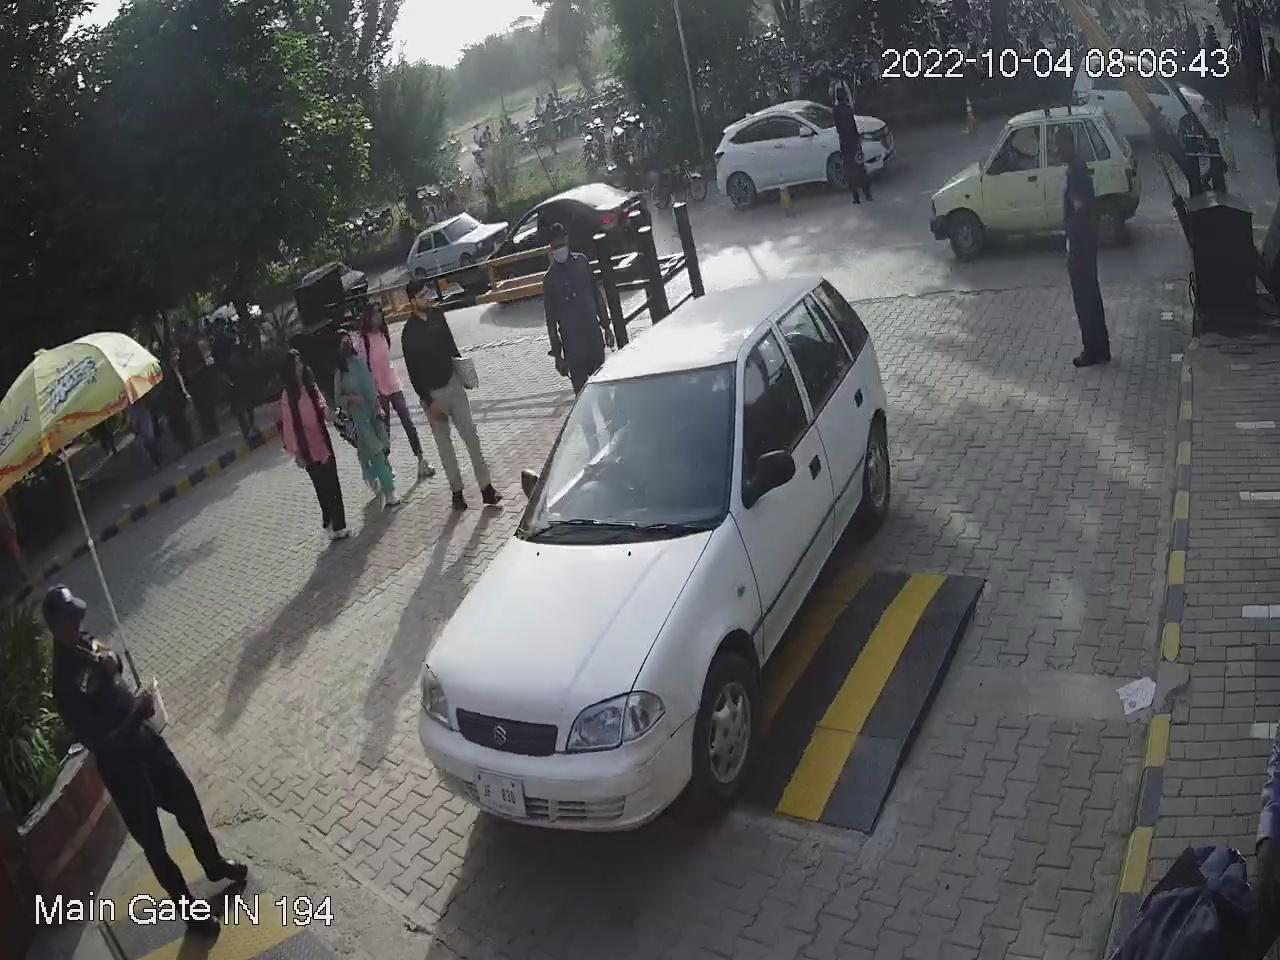windshield: (518, 367, 741, 530)
